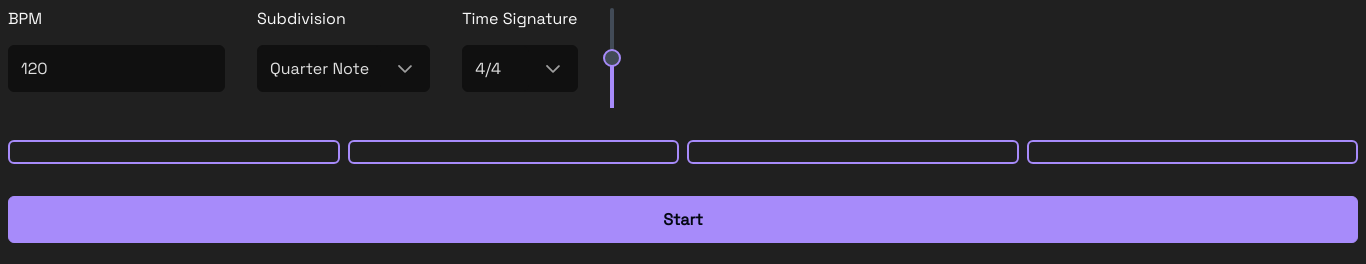
Test case: MetronomePage › start / stop › changes the button to Stop when Start is clicked
This screenshot has width=1366, height=264.
Click the button "Start" at (683, 220), box [8,196,1358,243]
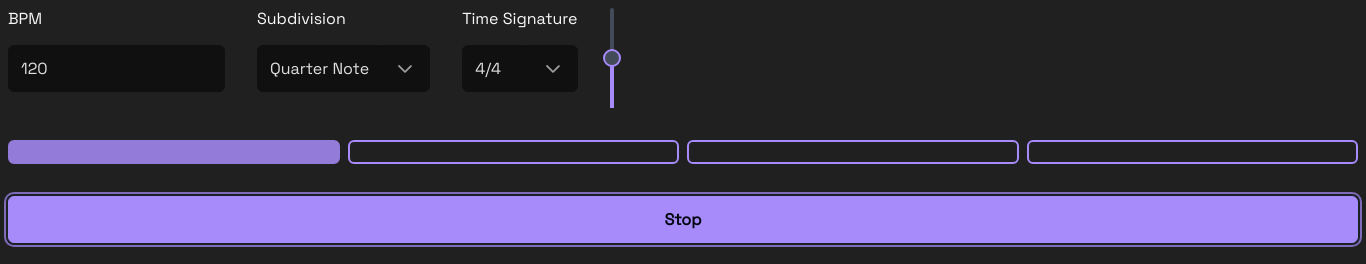
expect the button "Stop" is shown: met, box [8,196,1358,243]
